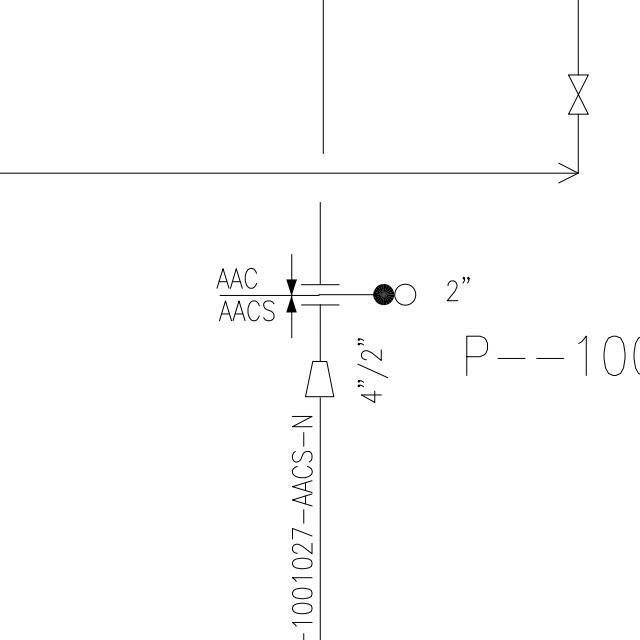GV: (565, 69, 593, 120)
SP: (300, 355, 338, 404)
